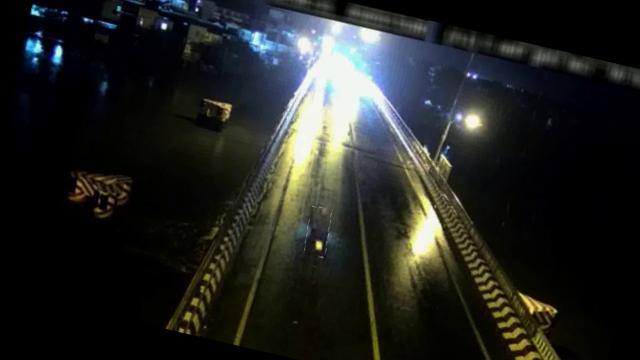Bike: (302, 206, 335, 258)
